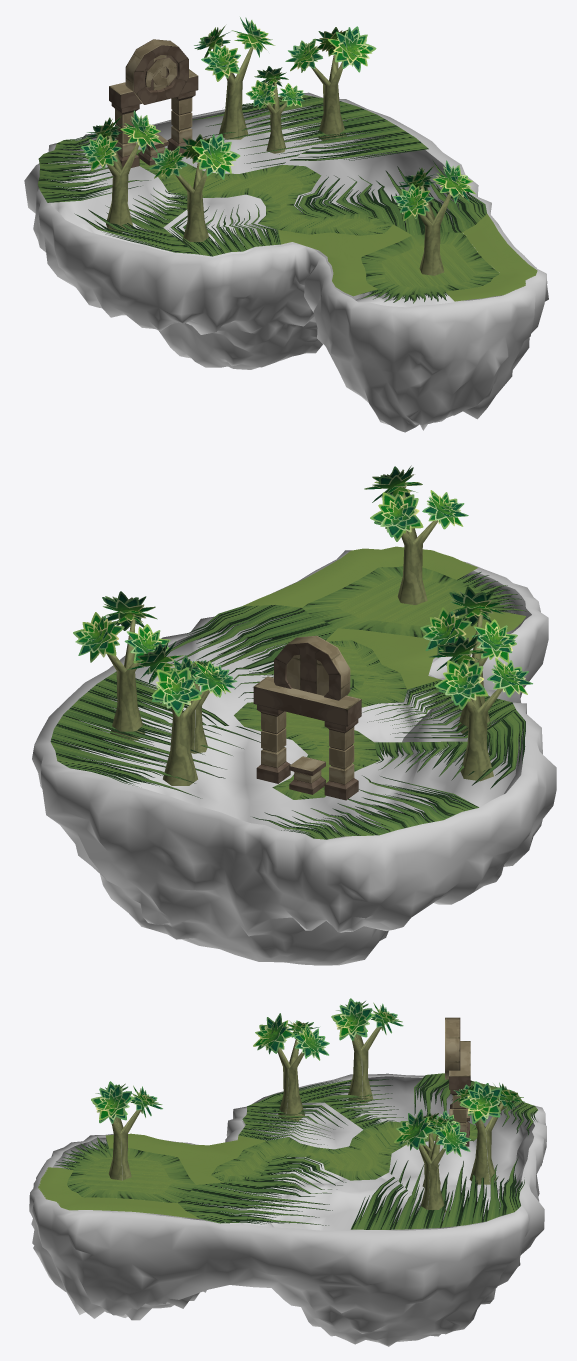
The model's file is Island_Big_2.fbx.
The picture shows the model from 3 angles, top to bottom: view 1: azimuth 30°, elevation 25°; view 2: azimuth 150°, elevation 25°; view 3: azimuth 270°, elevation 25°; orthographic projection. The views are drawn at different scales.
Visible parts, largest first — view 1: Island_Big_2, Portal.001, Tree_02.002, Tree_02.004, Tree_02.005, Tree_02.006, Tree_02.001, Tree_02.003, Door_Arc.002; view 2: Island_Big_2, Portal.001, Tree_02.005, Tree_02.002, Tree_02.006, Tree_02.001, Tree_02.004, Tree_02.003, Fire_Pilar.002; view 3: Island_Big_2, Tree_02.004, Tree_02.002, Tree_02.001, Tree_02.005, Tree_02.006, Portal.001.
Part boxes in pixels (box(x1,y1,x2,y2)): Island_Big_2: box(24, 92, 548, 432); Portal.001: box(109, 39, 198, 167); Tree_02.002: box(285, 26, 376, 141); Tree_02.004: box(149, 133, 240, 247); Tree_02.005: box(81, 110, 163, 232); Tree_02.006: box(393, 160, 476, 275); Tree_02.001: box(194, 17, 275, 139); Tree_02.003: box(246, 66, 304, 153); Door_Arc.002: box(145, 57, 176, 87); Island_Big_2: box(32, 546, 556, 965); Portal.001: box(253, 635, 361, 800); Tree_02.005: box(429, 634, 532, 781); Tree_02.002: box(73, 591, 170, 740); Tree_02.006: box(364, 465, 468, 604); Tree_02.001: box(127, 640, 237, 785); Tree_02.004: box(420, 586, 517, 734); Tree_02.003: box(168, 655, 234, 753); Fire_Pilar.002: box(289, 756, 325, 794); Island_Big_2: box(29, 1073, 546, 1346); Tree_02.004: box(253, 1013, 329, 1120); Tree_02.002: box(394, 1109, 470, 1212); Tree_02.001: box(451, 1081, 524, 1184); Tree_02.005: box(331, 998, 403, 1103); Tree_02.006: box(91, 1081, 162, 1180); Portal.001: box(445, 1017, 470, 1146).
Bounding box in the file's own units: 2963 × 2163 × 3854.
